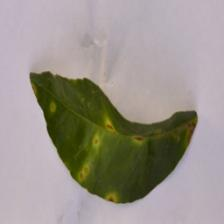canker: (50, 94, 189, 220)
